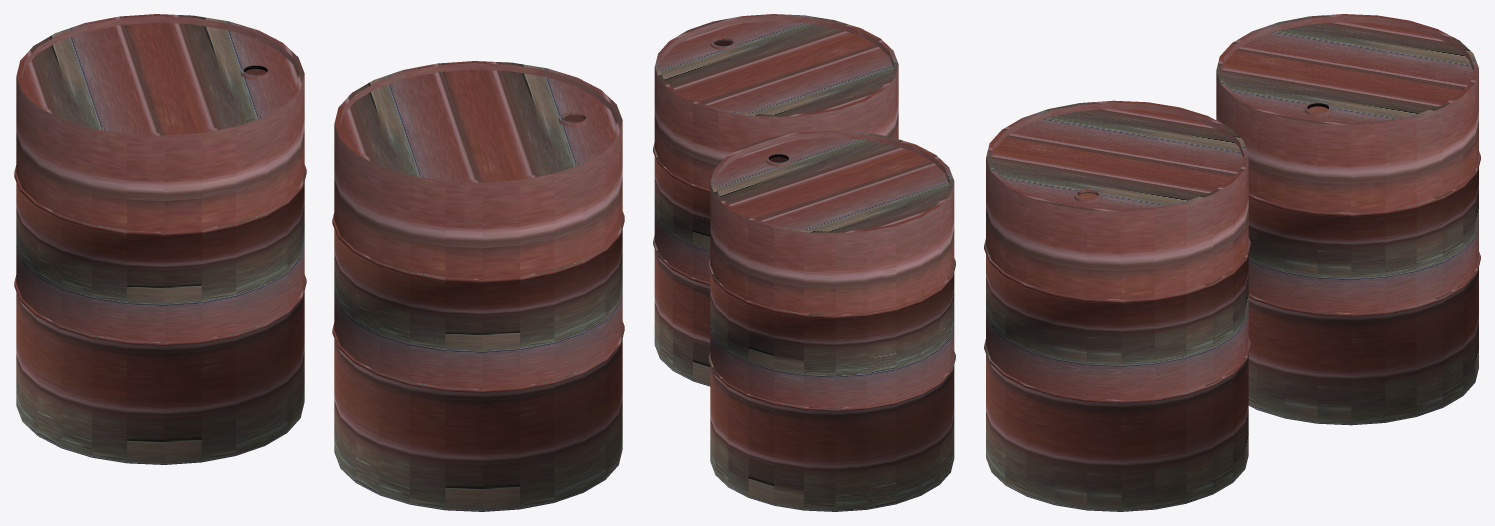
Rendered from GettoTape5__BetterToender2.glb.
The picture shows the model from 3 angles, left to right: view 1: azimuth 30°, elevation 25°; view 2: azimuth 150°, elevation 25°; view 3: azimuth 270°, elevation 25°; orthographic projection. The views are drawn at different scales.
Parts seen in each view (by area): view 1: Barrel, Barrel.001; view 2: Barrel.001, Barrel; view 3: Barrel, Barrel.001.
Boxes of the visible parts, x1=… form: Barrel: x1=332, y1=61, x2=624, y2=511; Barrel.001: x1=14, y1=14, x2=306, y2=464; Barrel.001: x1=708, y1=130, x2=955, y2=511; Barrel: x1=653, y1=14, x2=898, y2=386; Barrel: x1=984, y1=100, x2=1250, y2=511; Barrel.001: x1=1216, y1=14, x2=1480, y2=425.
Size of the model in its own units: 0.3028 by 0.2149 by 0.3209.
2 materials, 1 textured.
